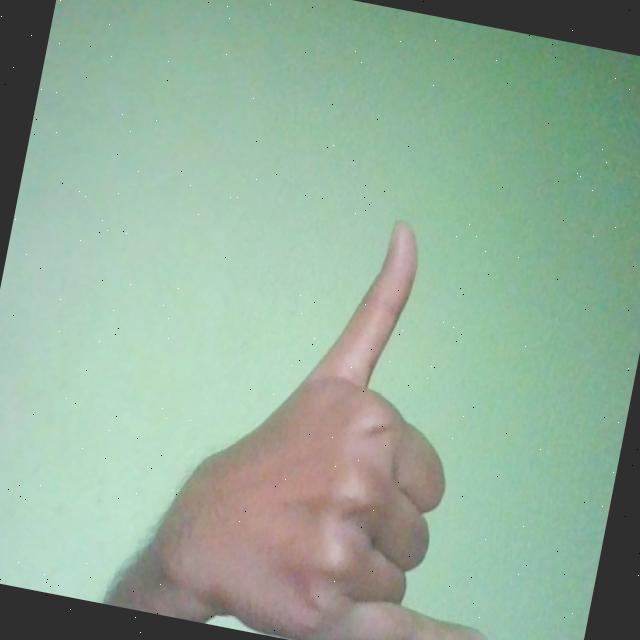Call Me: (134, 182, 569, 640)
